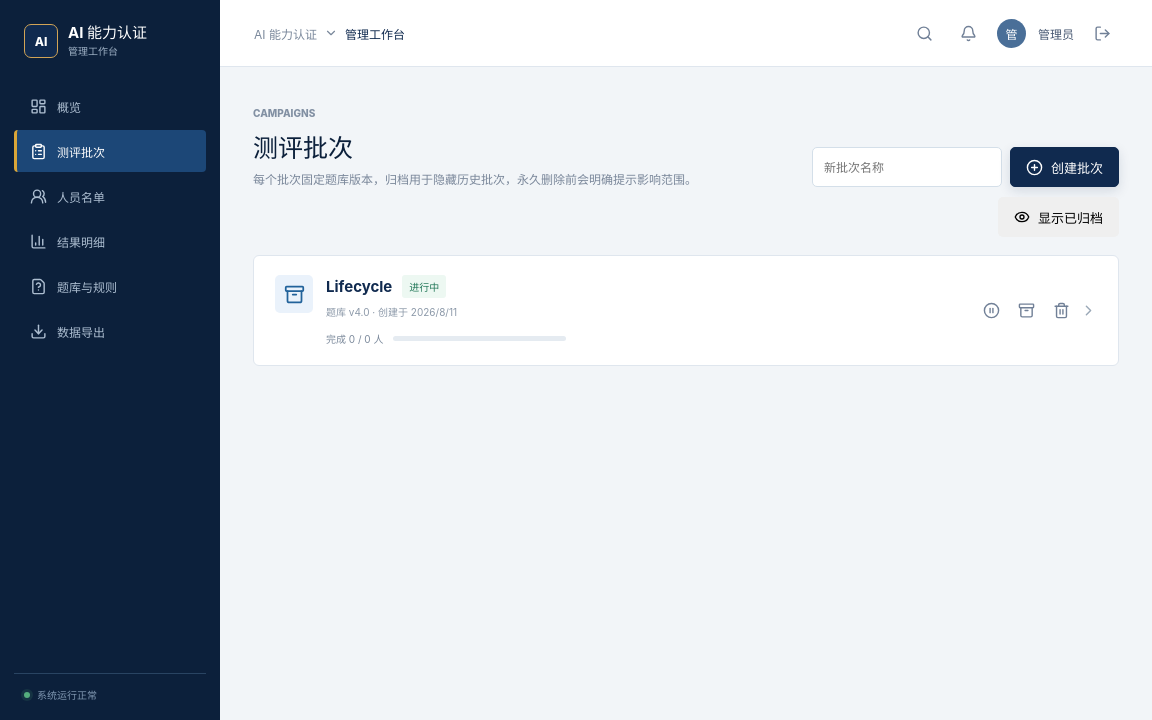
Test: administrator workspace › archives, recovers, and permanently deletes campaigns with confirmation
Click the button titled "归档批次" at (1026, 310), box [1010,294,1042,326]
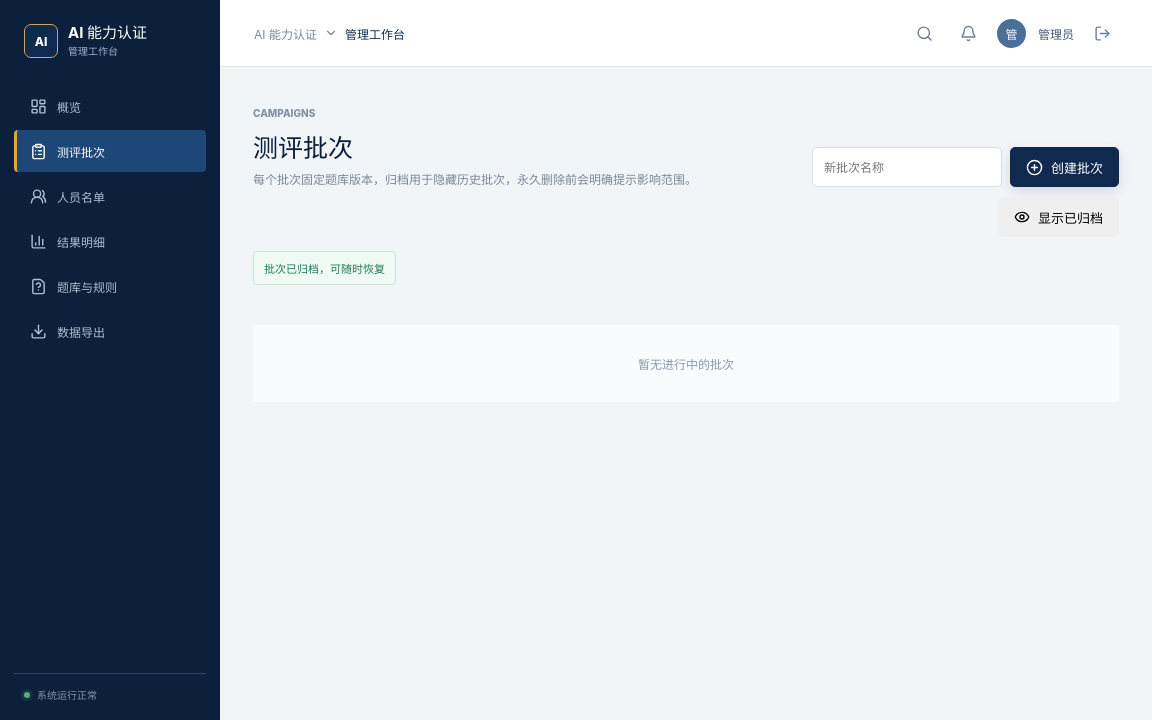
expect the heading "Lifecycle" is gone: met
Click the button "显示已归档" at (1058, 217), box [998,197,1119,237]
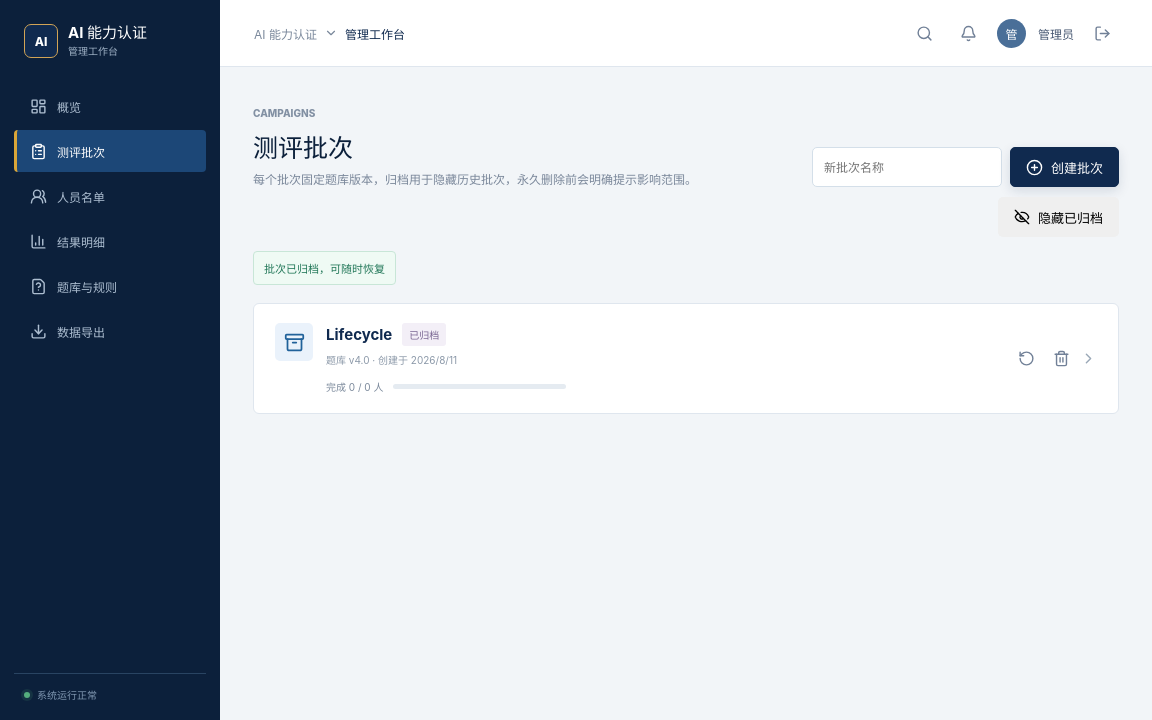
expect the heading "Lifecycle" is shown: met, box [326,325,392,344]
Click the button titled "恢复批次" at (1026, 358), box [1010,342,1042,374]
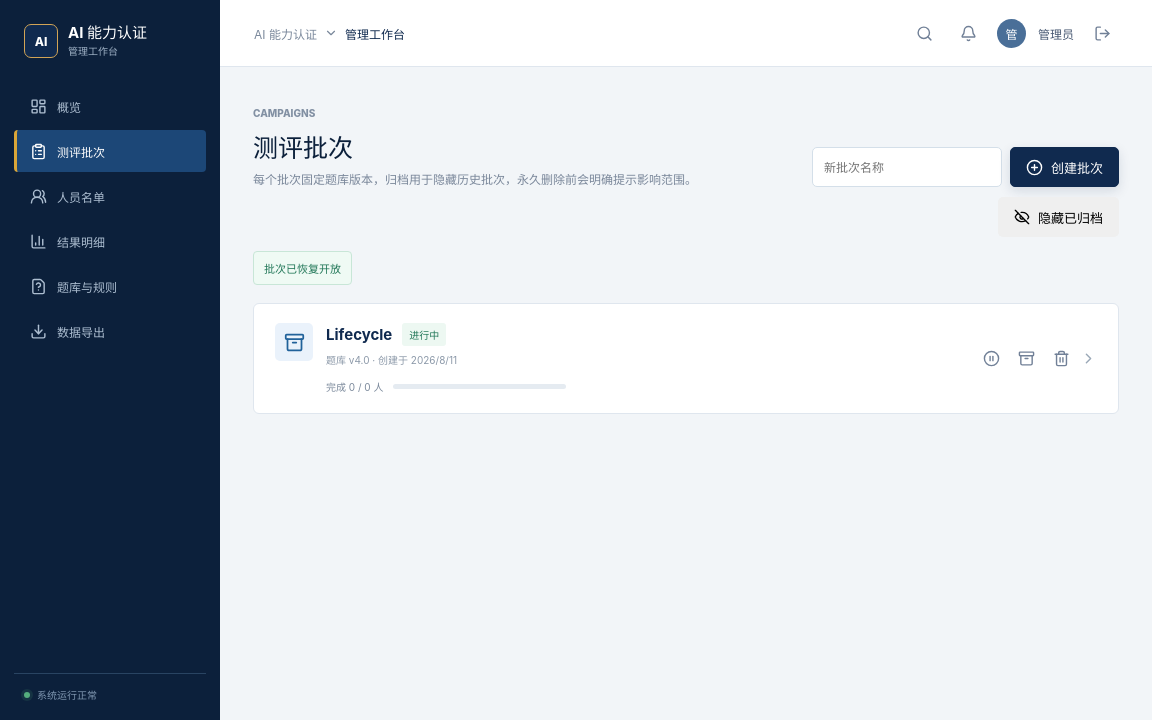
expect the text "进行中" is shown: met, box [402,323,446,346]
Click the button titled "永久删除批次" at (1061, 358), box [1045,342,1077,374]
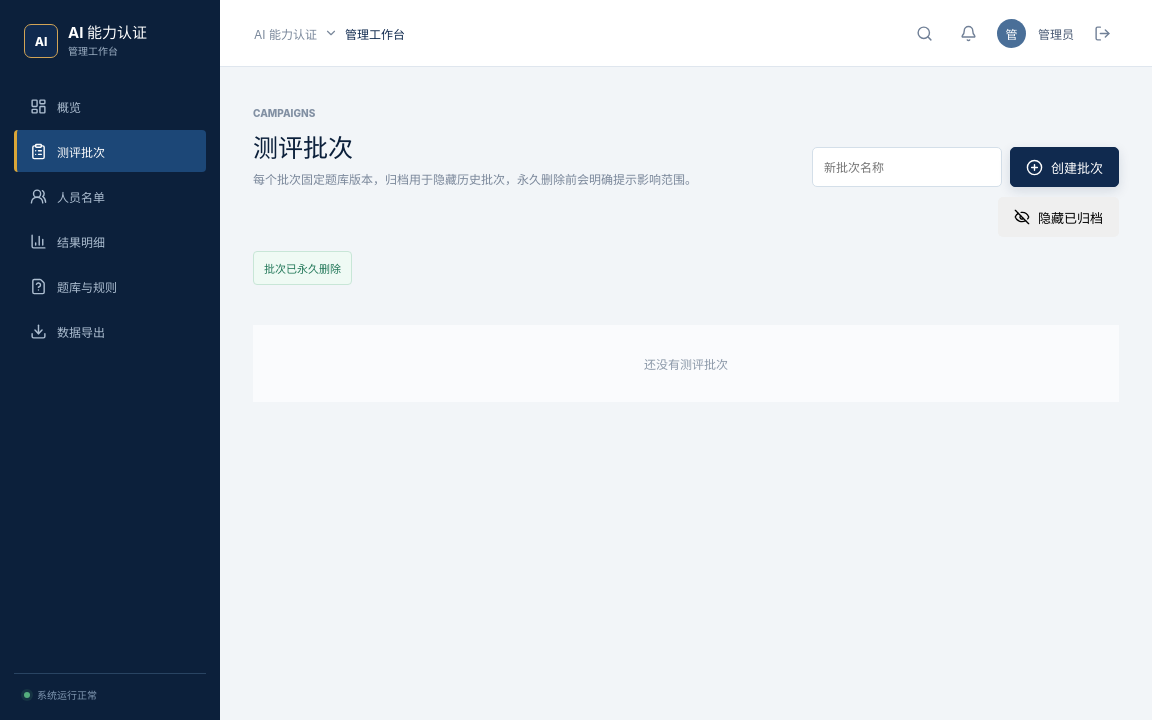
expect the text "还没有测评批次" is shown: met, box [253,325,1119,402]
